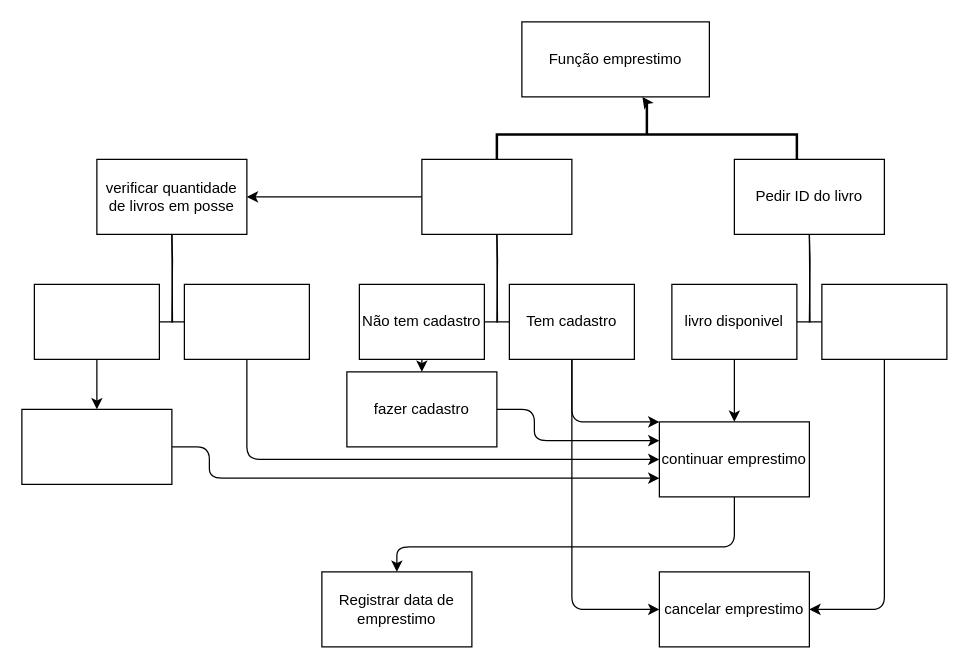
This 969x669 diagram has some shape labels left out. Each missing label, with the centre of its shape:
"atingiu limite" goes at [96,321].
"devolver um livro" goes at [96,446].
"livro ñ disponivel" goes at [884,321].
"Pedir nome usuario" goes at [496,196].
"ñ atingiu limite" goes at [246,321].
